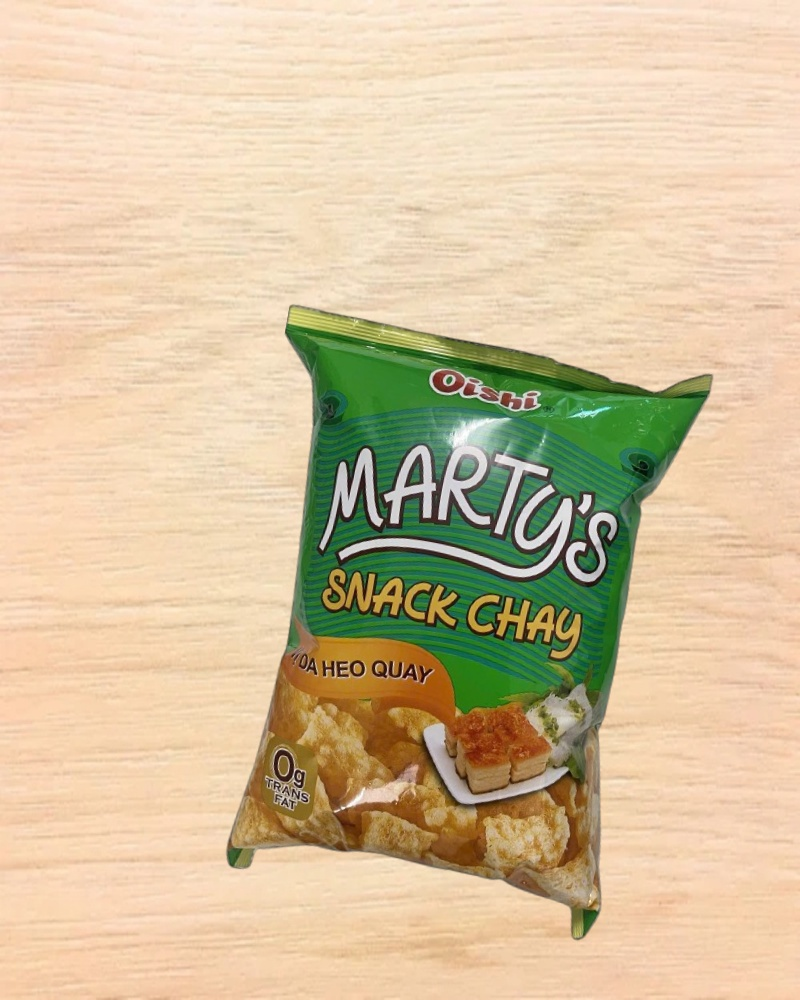Snack chay: (191, 301, 714, 947)
